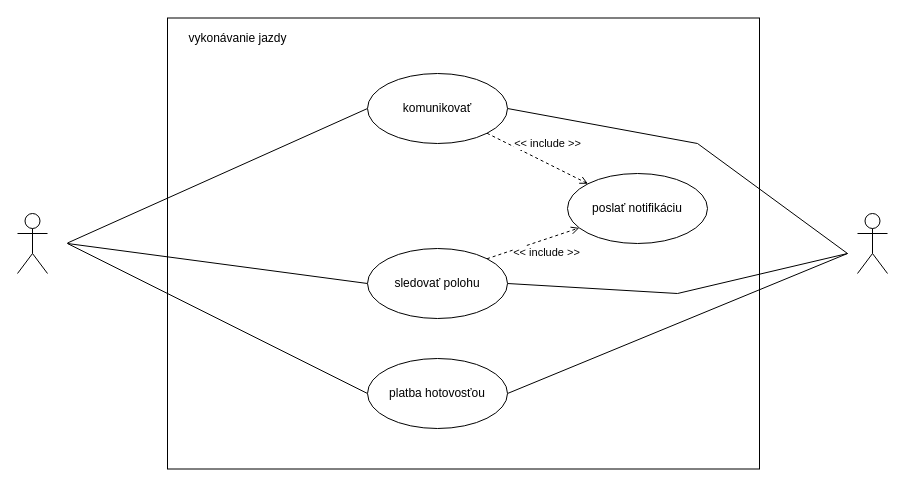
Image size: 912x486. Some labels were removed from this diagram. The centre of each missing label's shape, as x and y in pixels:
pasažier: point 872,243
šofér: point 32,243
